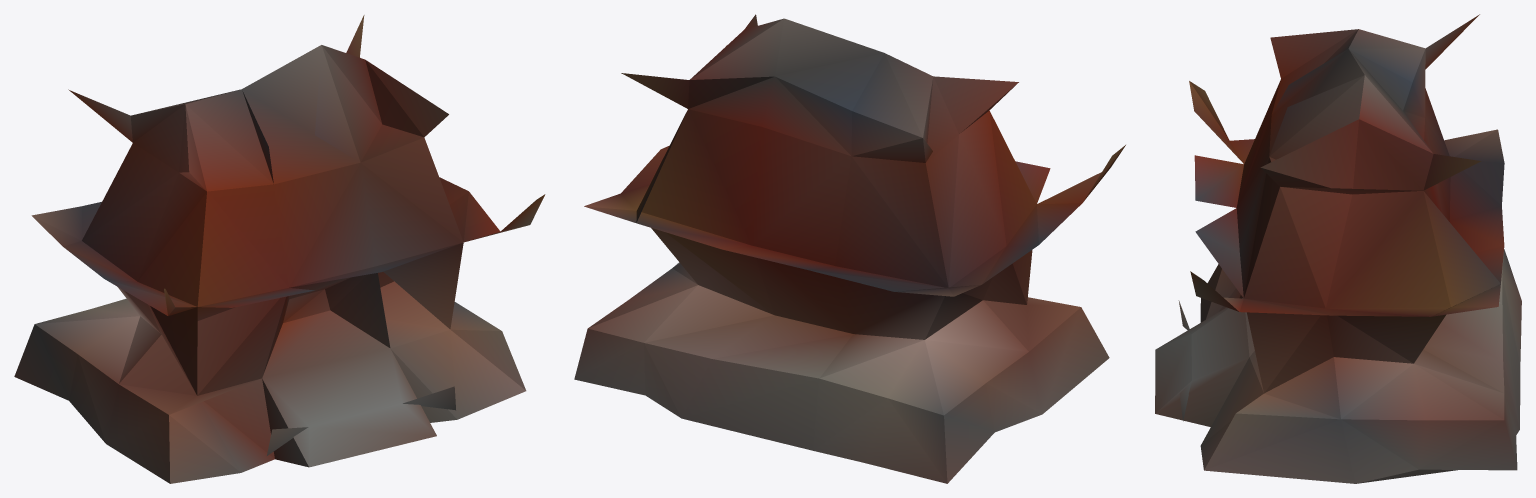
The model's file is temple.glb.
The picture shows the model from 3 angles, left to right: view 1: azimuth 30°, elevation 25°; view 2: azimuth 150°, elevation 25°; view 3: azimuth 270°, elevation 25°; orthographic projection. The views are drawn at different scales.
Parts seen in each view (by area): view 1: temple-far; view 2: temple-far; view 3: temple-far.
Boxes of the visible parts, x1,y1,x2,y2 form: temple-far: [14, 15, 545, 483]; temple-far: [574, 14, 1125, 483]; temple-far: [1155, 14, 1521, 483].
Size of the model in its own units: 26.17 by 21.8 by 21.11.
